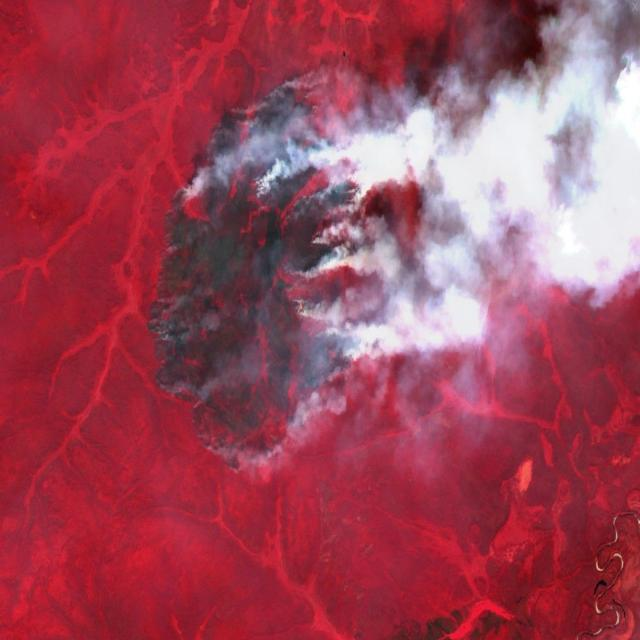fire: (139, 67, 368, 478)
